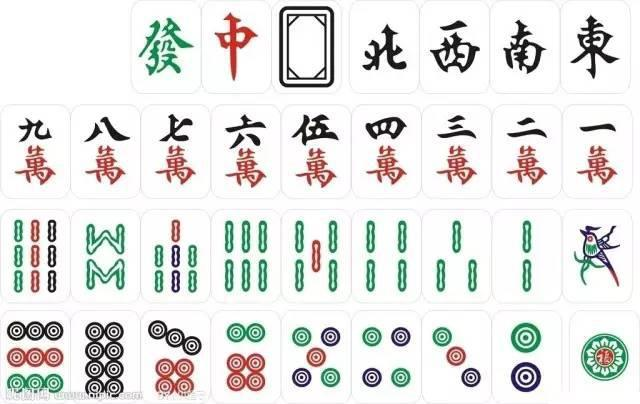1W: (573, 116, 622, 187)
1i: (568, 218, 624, 292)
1o: (575, 321, 634, 388)
2W: (505, 112, 552, 191)
2i: (512, 215, 545, 295)
2o: (500, 314, 549, 397)
3W: (429, 108, 484, 186)
3i: (428, 213, 483, 296)
3o: (428, 314, 485, 391)
4W: (363, 111, 410, 189)
4i: (361, 213, 413, 296)
4o: (359, 319, 414, 391)
5W: (290, 110, 343, 191)
5i: (288, 215, 346, 295)
5o: (288, 321, 346, 392)
6W: (218, 112, 270, 195)
6i: (218, 216, 272, 295)
6o: (222, 319, 271, 398)
7W: (154, 110, 200, 186)
7i: (150, 216, 203, 294)
7o: (145, 318, 205, 398)
8W: (81, 111, 131, 191)
8i: (82, 220, 134, 294)
8o: (76, 316, 132, 401)
9W: (10, 113, 64, 189)
9i: (11, 215, 63, 296)
9o: (4, 317, 65, 397)
East: (567, 5, 623, 84)
Green: (136, 12, 196, 82)
North: (361, 13, 410, 78)
Red: (207, 6, 263, 87)
South: (496, 11, 550, 84)
West: (427, 11, 478, 79)
White: (278, 4, 337, 89)
